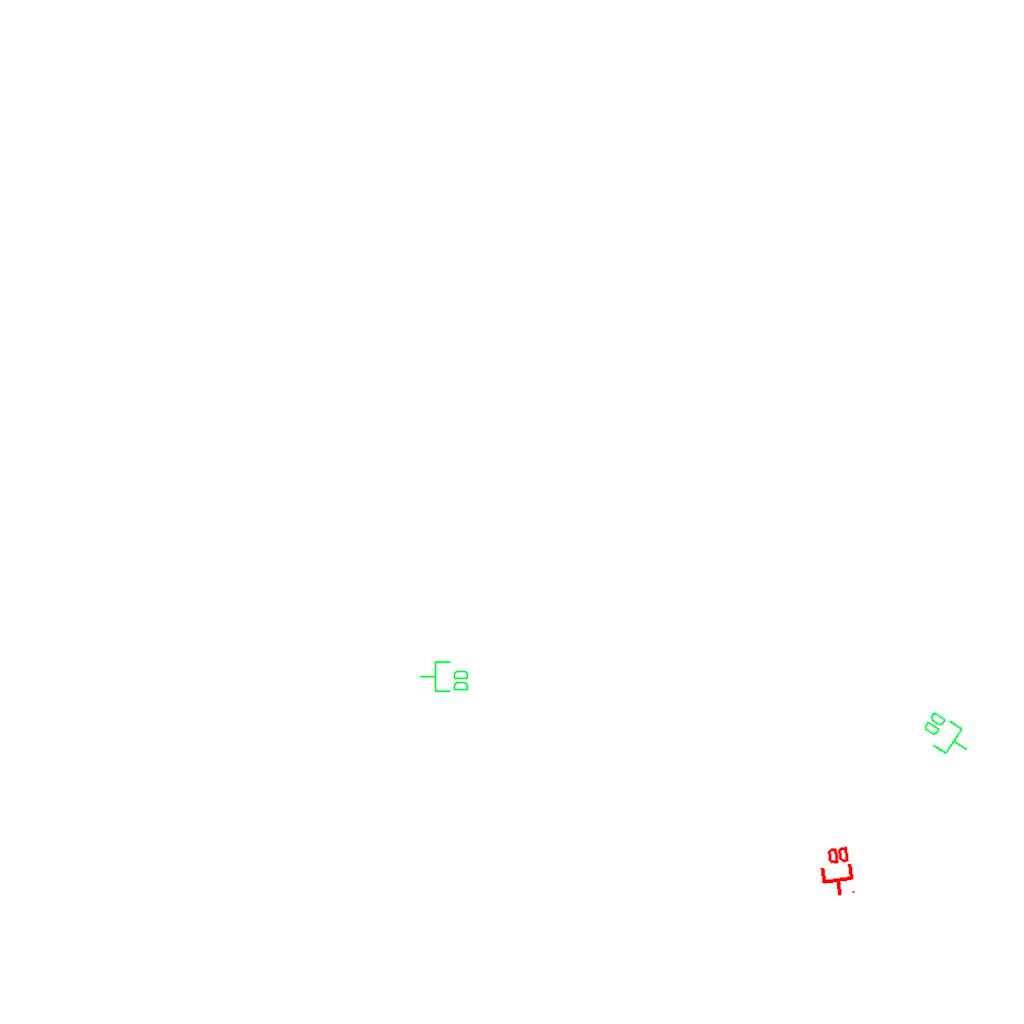Datenanschluss_zweifach: (915, 707, 978, 765), (815, 843, 857, 900), (419, 660, 470, 694)
